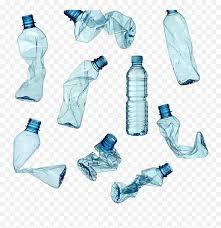BIODEGRADABLE: (10, 116, 70, 191), (58, 50, 109, 130), (158, 4, 205, 90), (154, 97, 212, 165), (12, 10, 52, 106), (108, 156, 176, 210), (65, 6, 136, 50), (120, 52, 150, 141), (75, 132, 121, 183)
